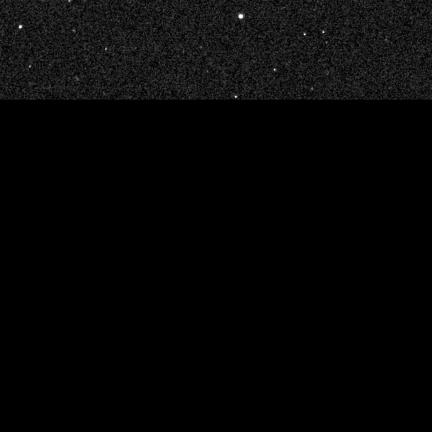blob: (19, 25, 23, 30), (239, 14, 243, 18), (273, 69, 277, 72), (322, 30, 325, 34), (304, 33, 307, 36), (105, 48, 108, 51), (235, 96, 238, 99)
